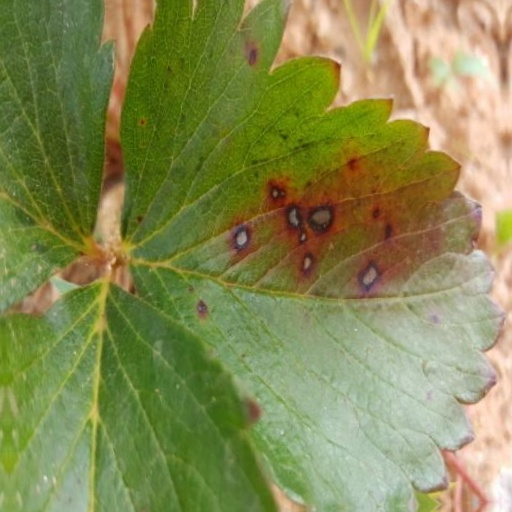Leaf Spot: (120, 0, 501, 511)
